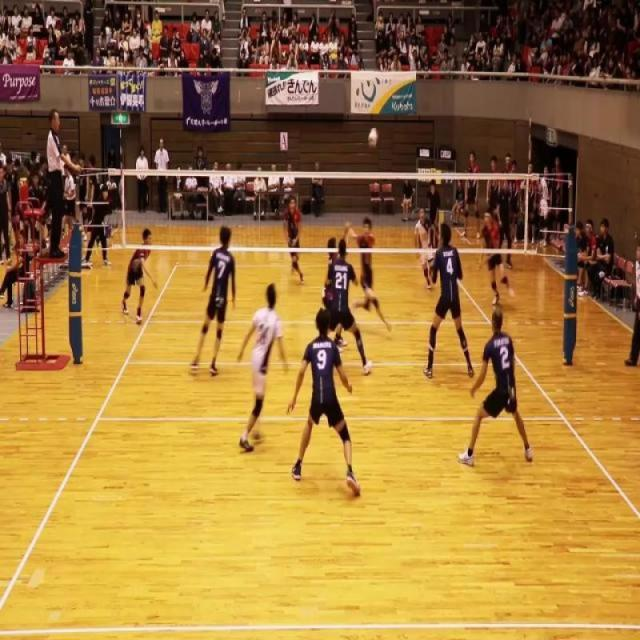volleyball: (368, 126, 378, 150)
